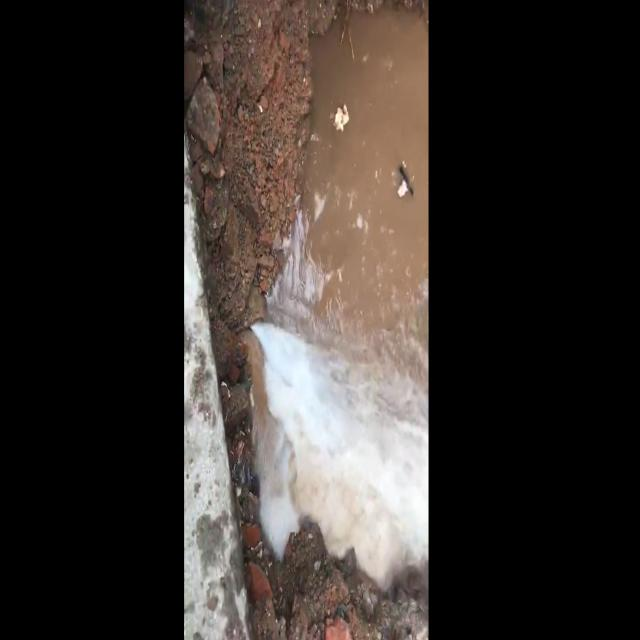leak: (254, 322, 428, 587)
